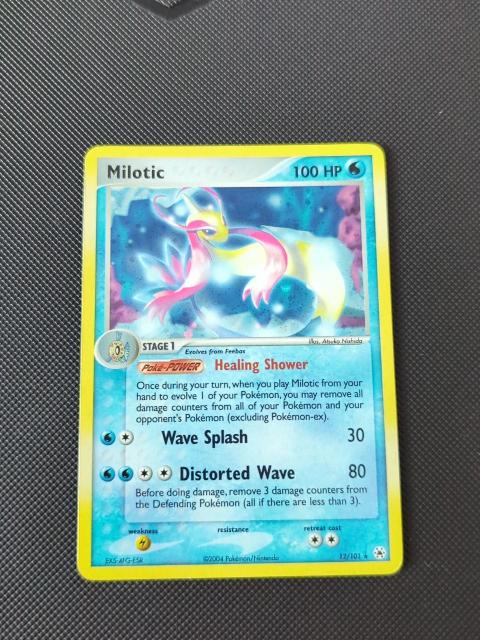Card: (73, 139, 408, 584)
Name: (105, 161, 168, 183)
